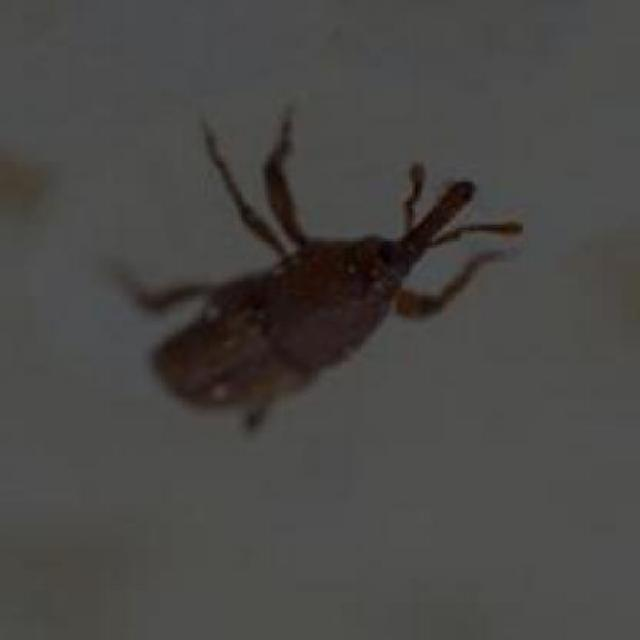rice-bug: (146, 160, 472, 414)
